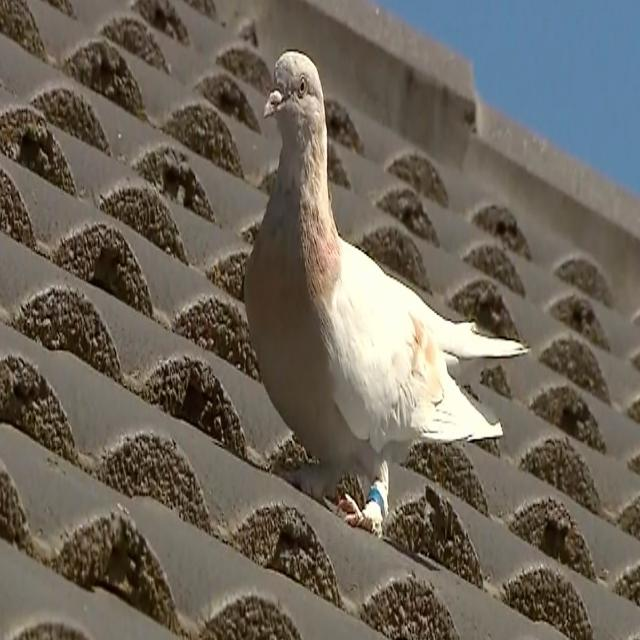Pigeon: (240, 37, 530, 540)
